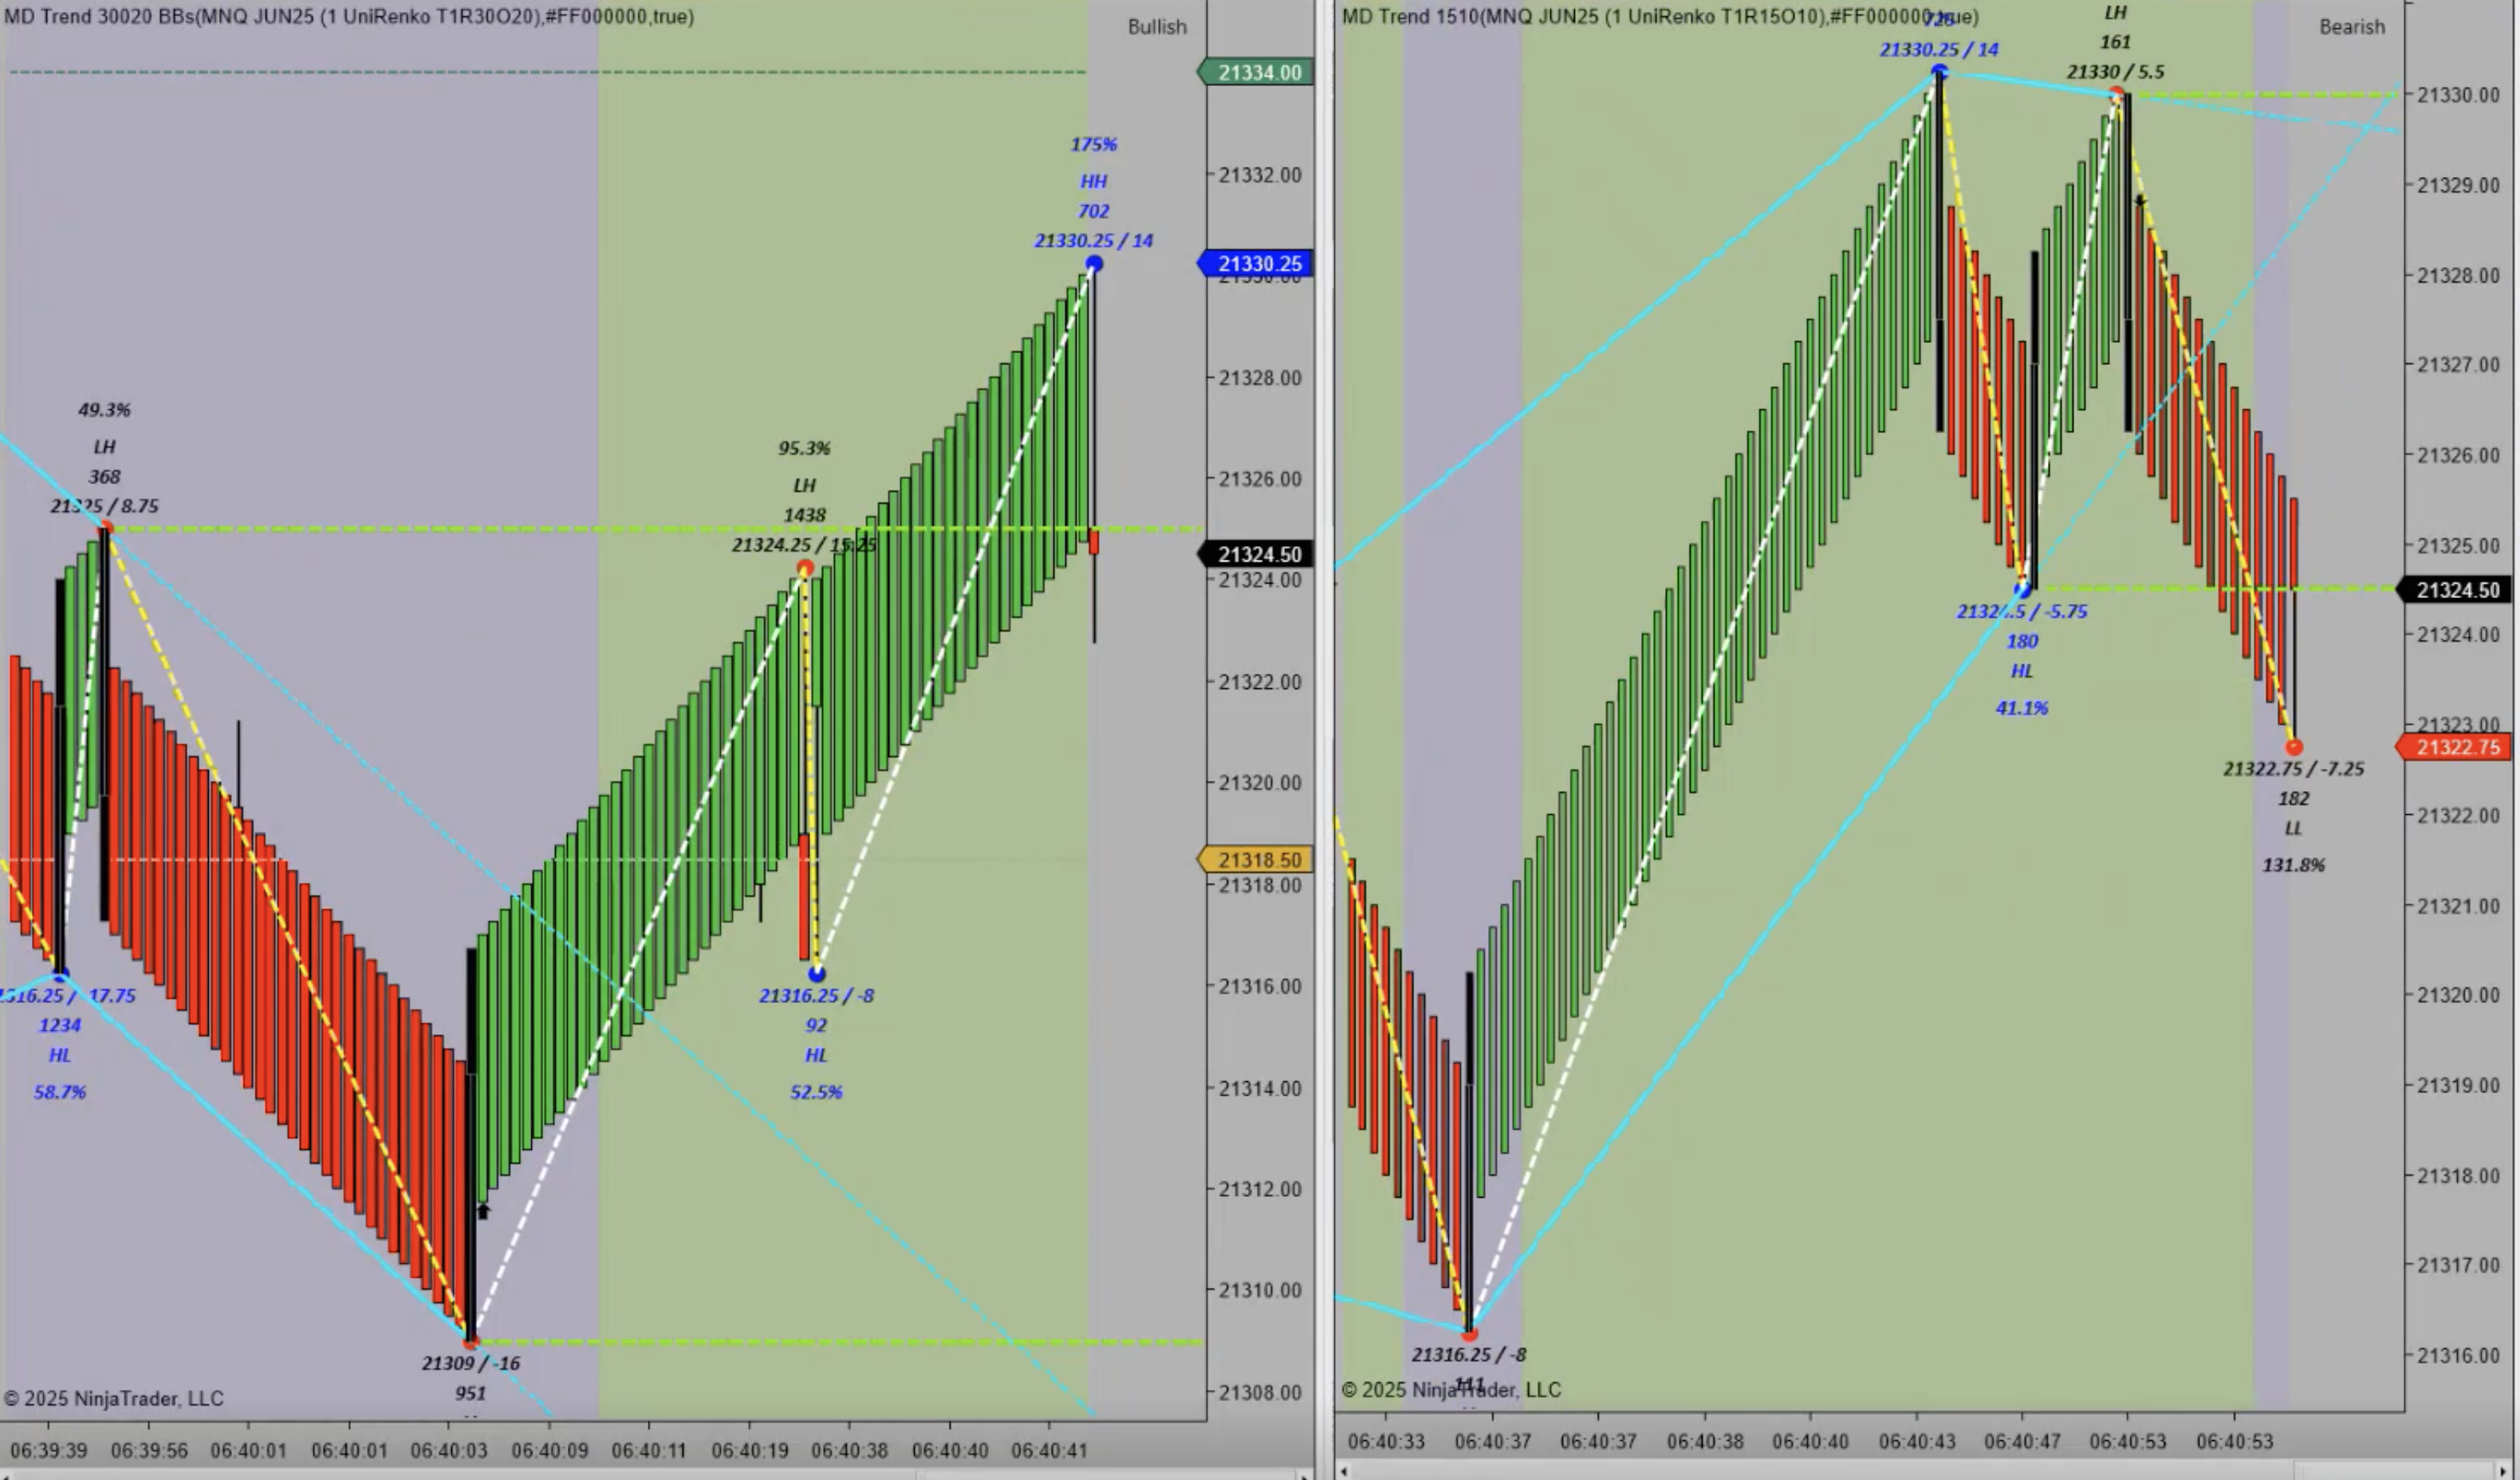candle: (97, 523, 120, 923), (51, 580, 72, 980), (465, 951, 481, 1332), (2027, 252, 2045, 588), (2122, 93, 2138, 442), (1465, 971, 1479, 1316), (1935, 67, 1948, 440)
